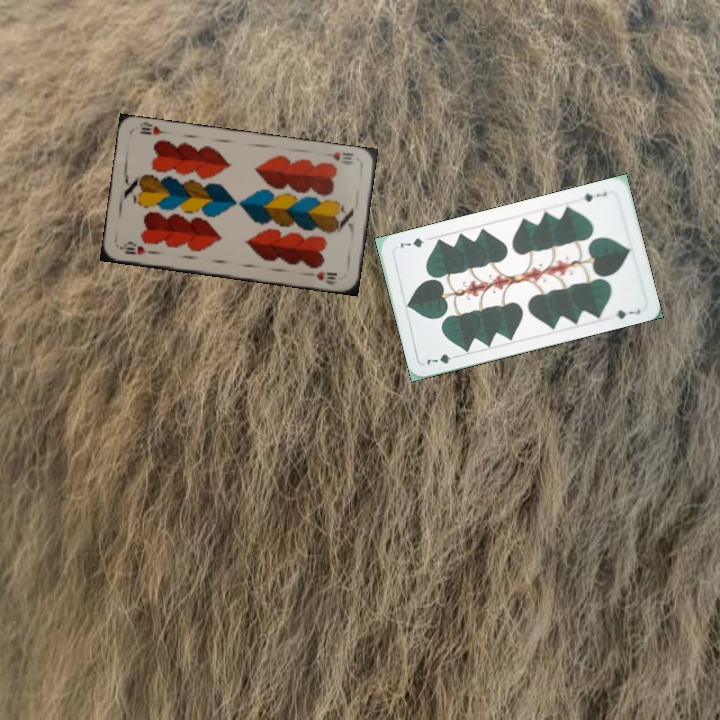G7: (423, 349, 462, 368), (574, 187, 609, 204)
H10: (116, 239, 157, 257), (320, 148, 356, 168)
